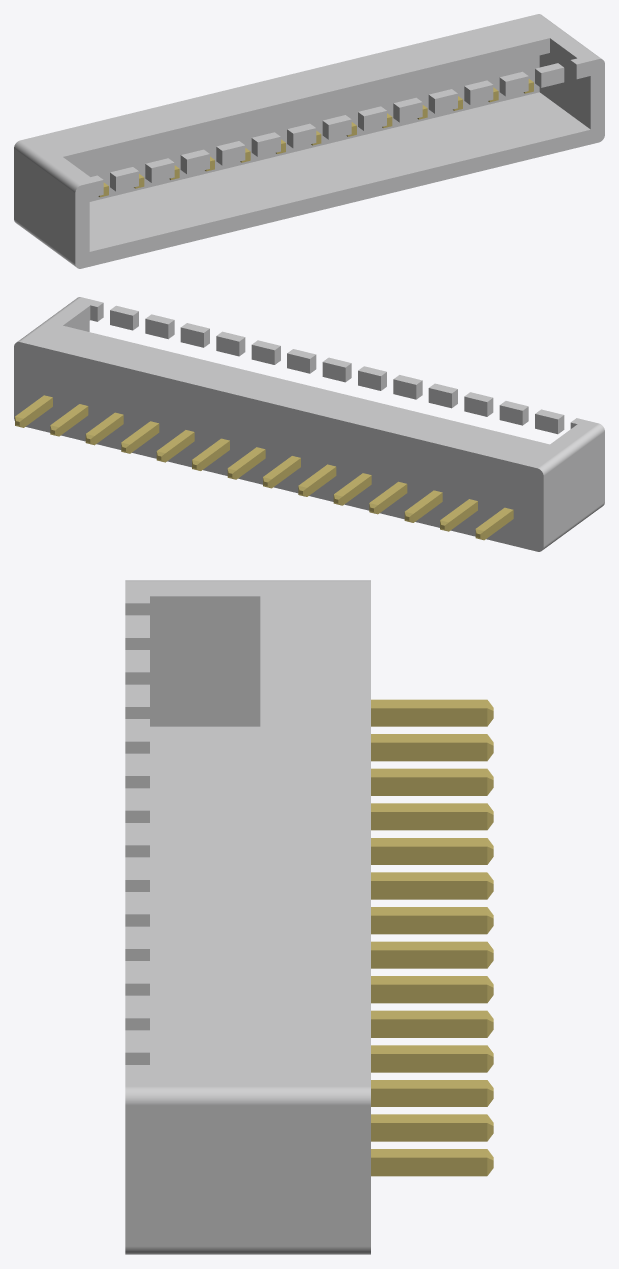
The model's file is jst_ph_14pin.glb.
The picture shows the model from 3 angles, top to bottom: view 1: azimuth 30°, elevation 25°; view 2: azimuth 150°, elevation 25°; view 3: azimuth 270°, elevation 25°; orthographic projection. The views are drawn at different scales.
Parts seen in each view (by area): view 1: world; view 2: world; view 3: world.
Part boxes in pixels (x1,y1,x2,y2): world: (14,14,604,268); world: (14,297,604,551); world: (125,580,493,1254).
Size of the model in its own units: 29.9 by 4.5 by 9.
